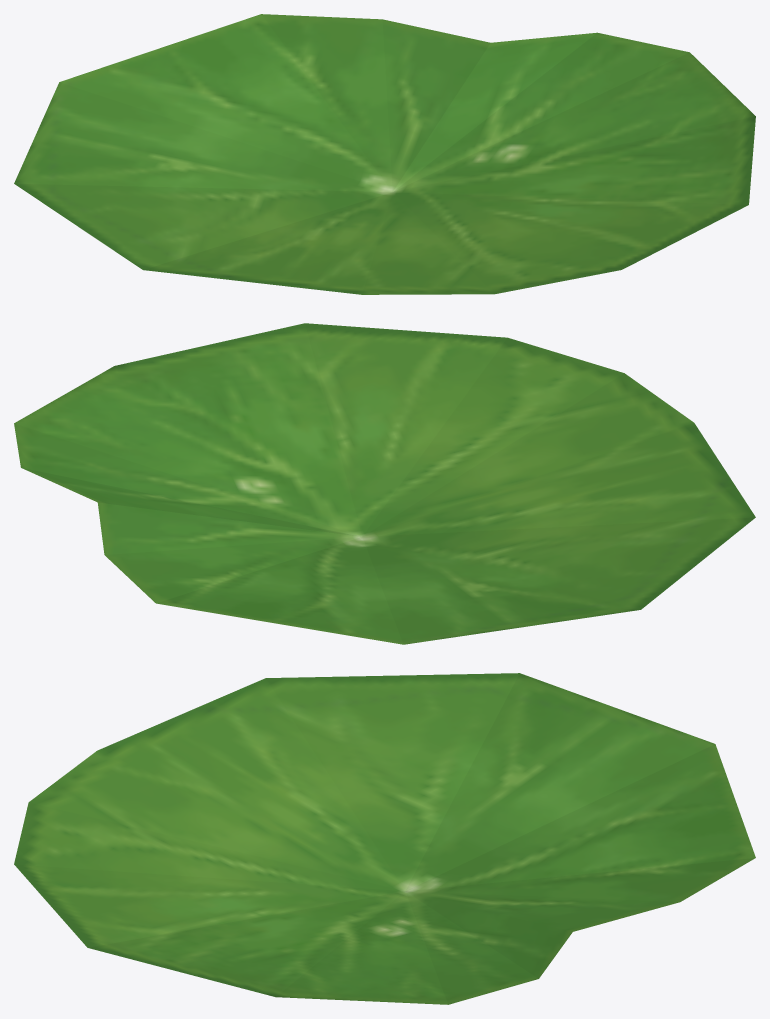
The model's file is fb_plxd_zj_14_e.FBX.
The picture shows the model from 3 angles, top to bottom: view 1: azimuth 30°, elevation 25°; view 2: azimuth 150°, elevation 25°; view 3: azimuth 270°, elevation 25°; orthographic projection. The views are drawn at different scales.
Parts seen in each view (by area): view 1: Object001; view 2: Object001; view 3: Object001.
Part boxes in pixels (box(x1,y1,x2,y2)): Object001: box(14, 14, 755, 294); Object001: box(14, 323, 755, 644); Object001: box(14, 673, 755, 1004).
Bounding box in the file's own units: 82.39 × 5.92 × 78.01.
Materials: 1 (1 with a texture image).
